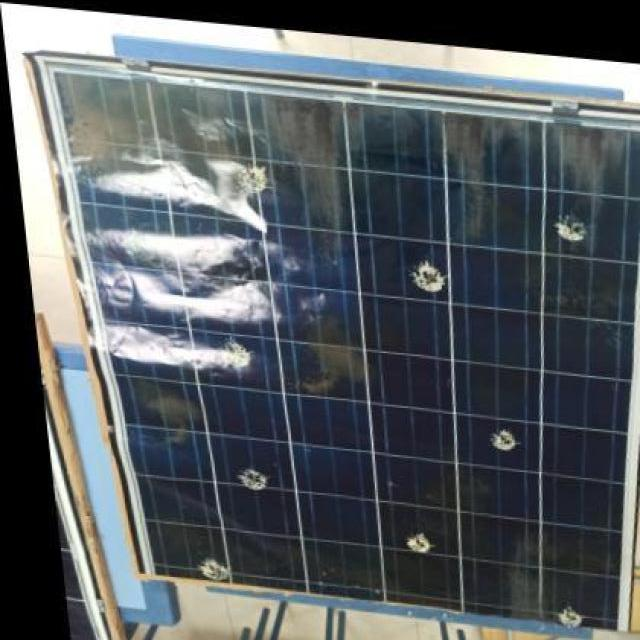soiled: (38, 63, 636, 626)
